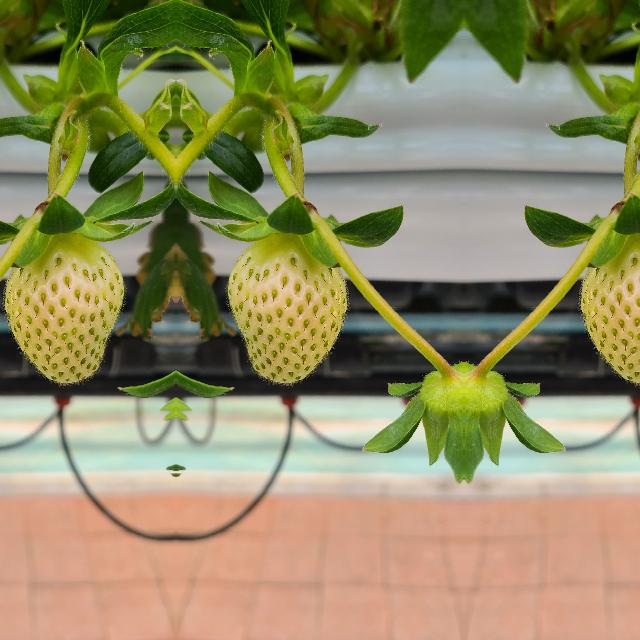Health_25: (222, 232, 350, 388), (1, 232, 128, 388), (576, 232, 640, 388)
